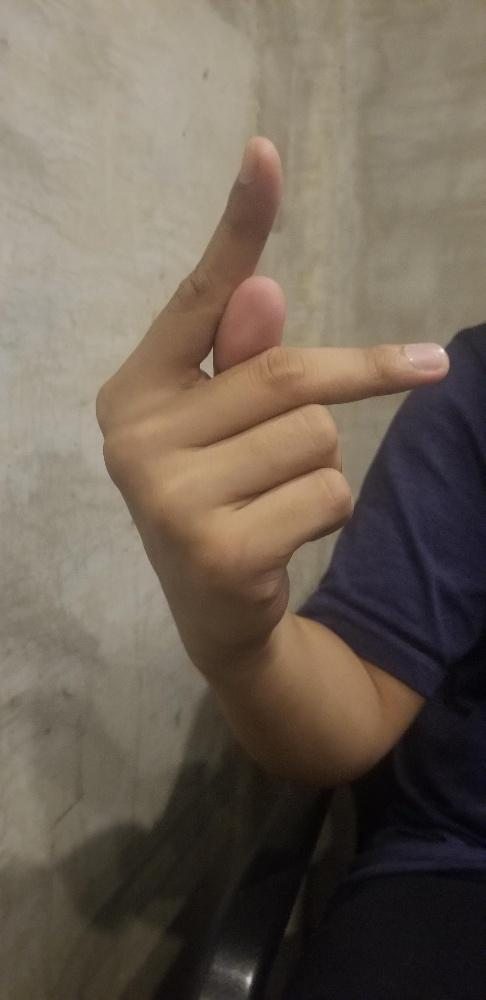k: (92, 135, 451, 647)
